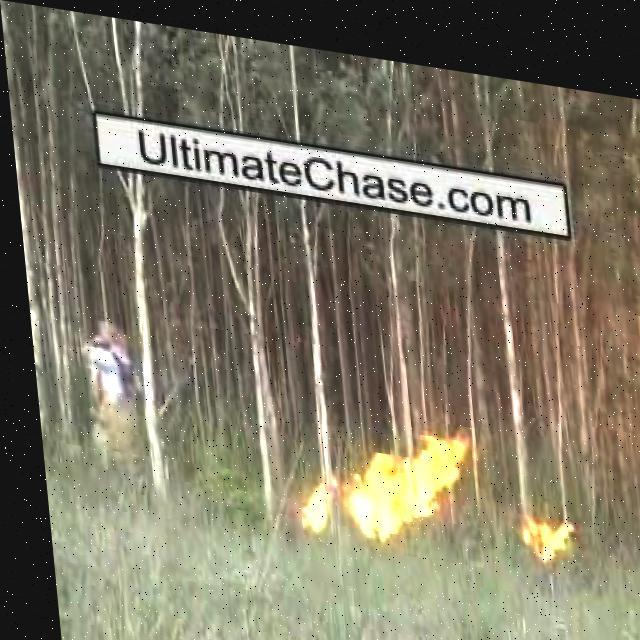Fire: (252, 333, 474, 561), (493, 456, 575, 558)
